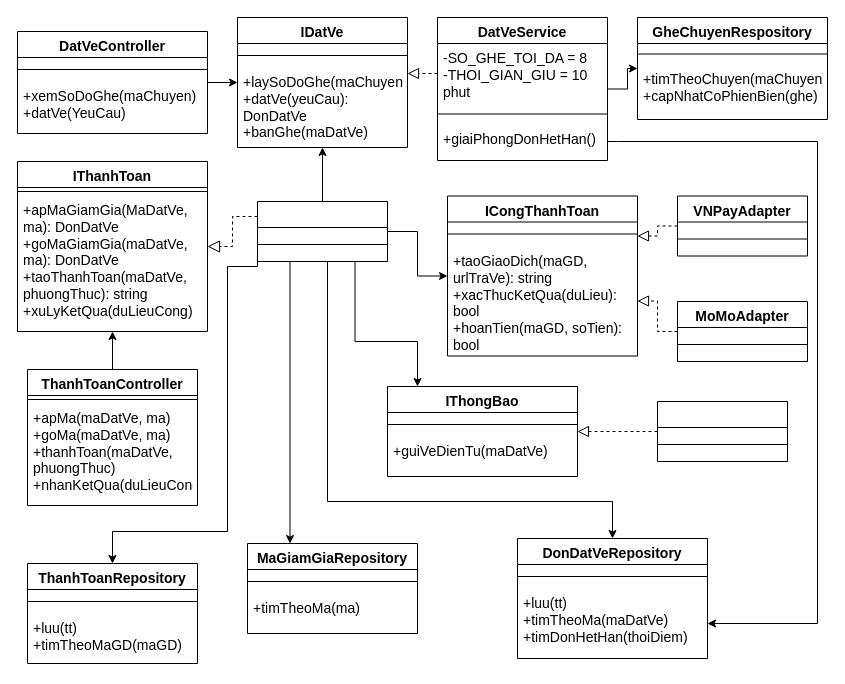
Some shapes in this 845 by 684 pixel diagram are drawn without their labels. The shapes that lost their labels are listed below. From the top down, each one's centre as x and y in pixels, then its label:
At pixel 322 231: "ThanhToanService".
At pixel 722 431: "EmailSmsService".
